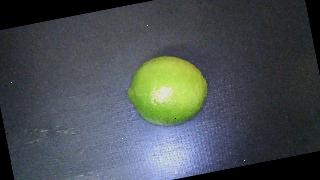EXPORTACION: (122, 48, 214, 132)
